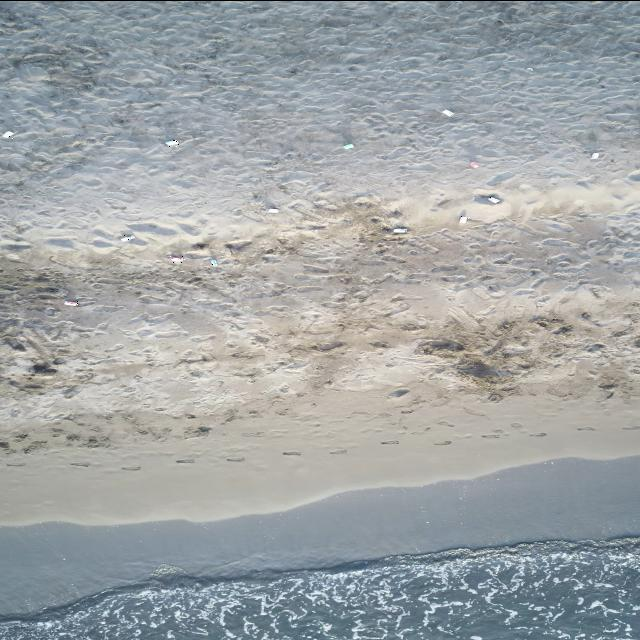Garbage: (224, 240, 251, 252), (473, 193, 500, 203), (168, 253, 183, 263), (192, 241, 207, 248), (487, 195, 500, 203), (176, 457, 193, 463), (120, 233, 134, 240), (440, 108, 452, 116), (3, 129, 13, 138), (226, 455, 243, 460), (64, 299, 76, 306), (164, 139, 178, 145), (459, 213, 467, 223), (392, 227, 407, 232), (380, 440, 397, 444), (468, 160, 479, 166), (209, 258, 216, 266), (591, 151, 599, 158), (267, 207, 278, 212), (343, 143, 352, 148), (527, 67, 532, 71)
